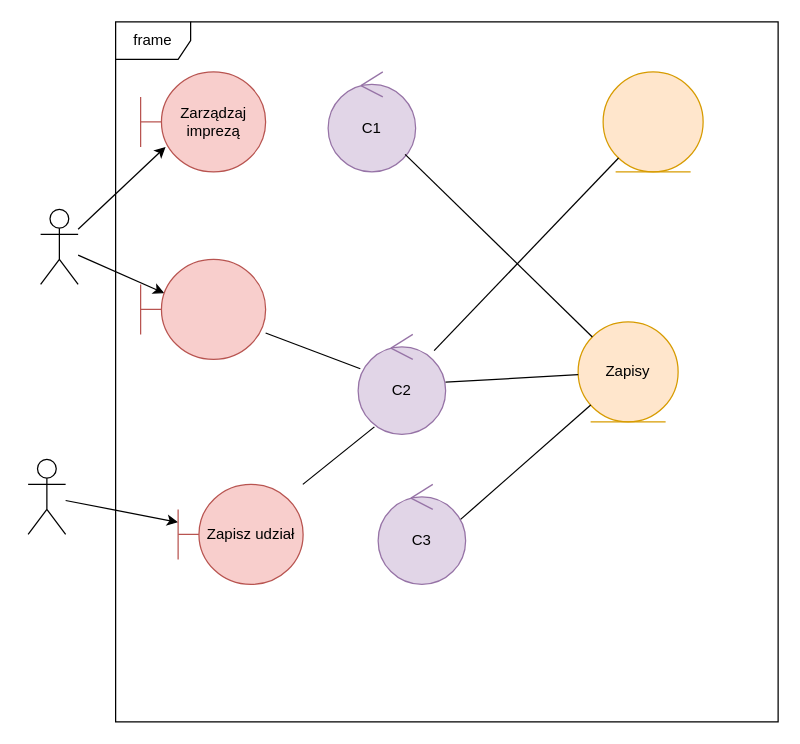
Some shapes in this 800 by 744 pixel diagram are drawn without their labels. The shapes that lost their labels are listed below. From the top down, each one's centre as x and y in pixels, then its label:
At (652,121): "Imprezy".
At (58,246): "Działacz".
At (202,308): "Generuj raport".
At (46,496): "Student".
